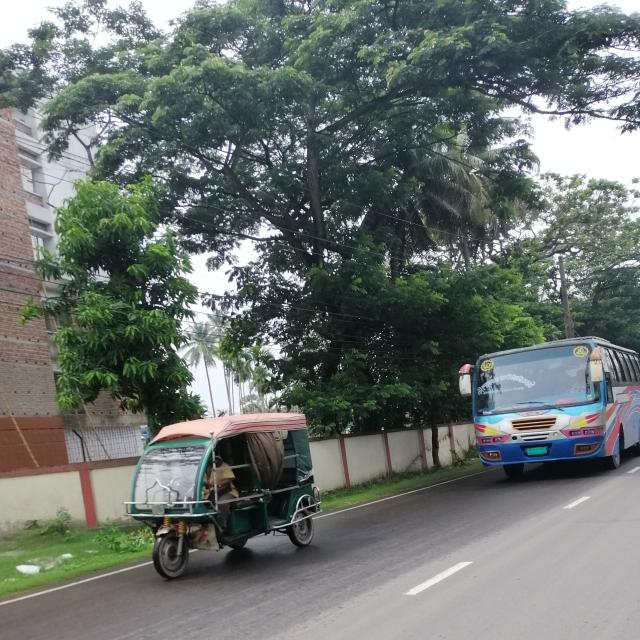Bus: (466, 338, 640, 487)
Easybike: (115, 389, 338, 583)
